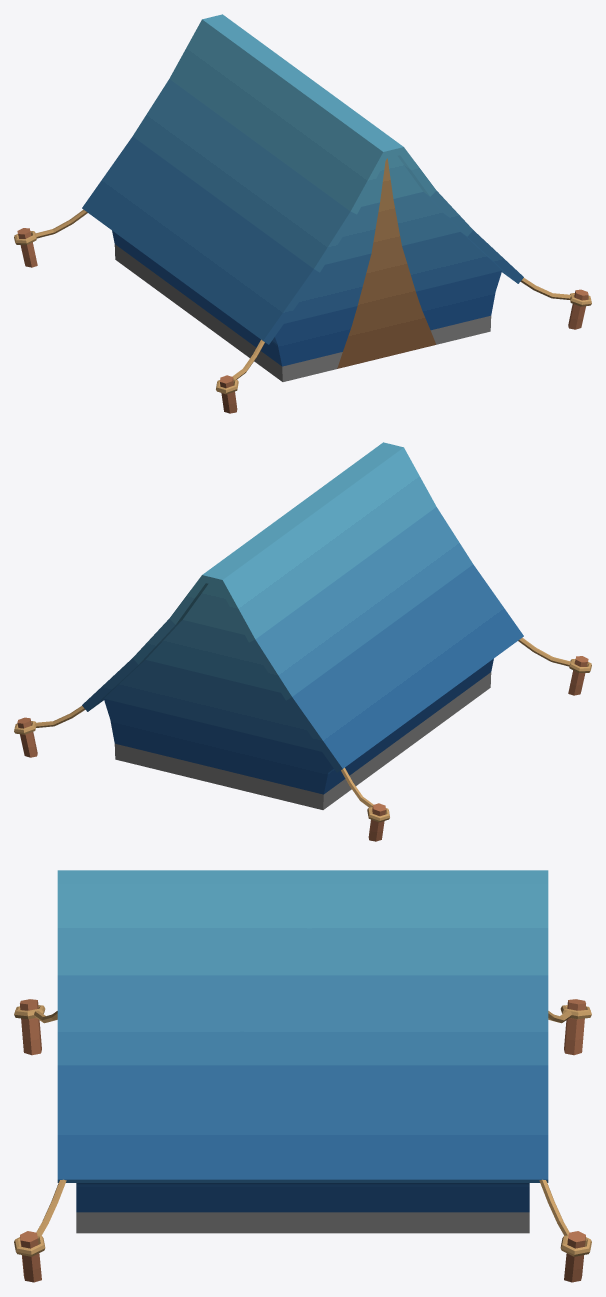
Rendered from camp_tent_blue.glb.
The picture shows the model from 3 angles, top to bottom: view 1: azimuth 30°, elevation 25°; view 2: azimuth 150°, elevation 25°; view 3: azimuth 270°, elevation 25°; orthographic projection. The views are drawn at different scales.
Parts seen in each view (by area): view 1: camp_tent_blue; view 2: camp_tent_blue; view 3: camp_tent_blue.
Part boxes in pixels (x1,y1,x2,y2): camp_tent_blue: (14, 14, 591, 413); camp_tent_blue: (14, 442, 591, 841); camp_tent_blue: (14, 870, 591, 1282).
Bounding box in the file's own units: 4.06 × 2.2 × 4.01.
Materials: 1 (1 with a texture image).
